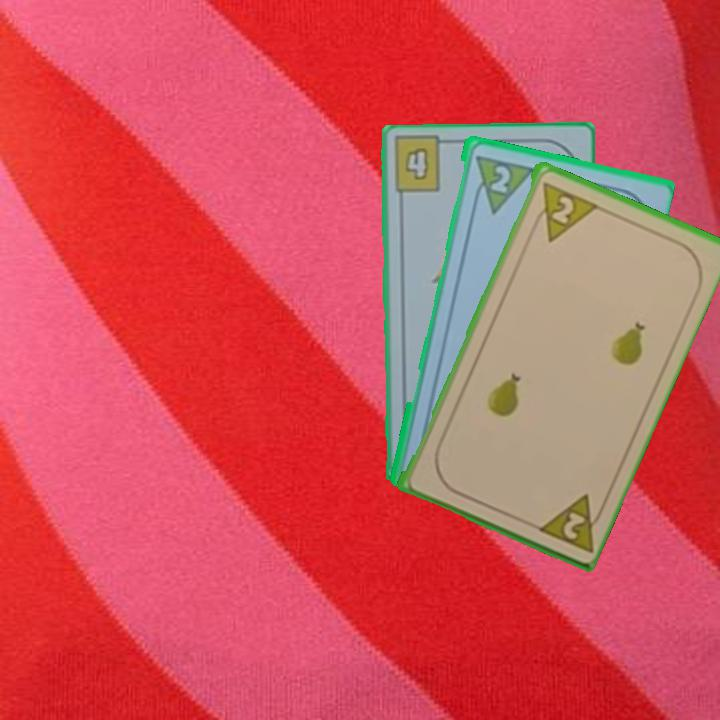2p: (531, 489, 609, 555), (528, 177, 598, 245), (485, 161, 513, 196)
4b: (401, 143, 432, 183)
